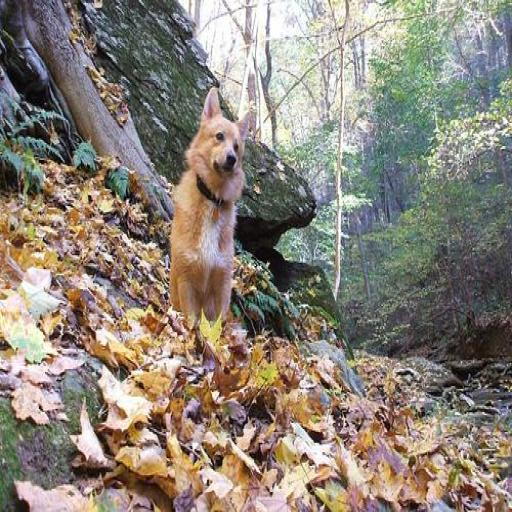dog_face: (191, 92, 258, 196)
